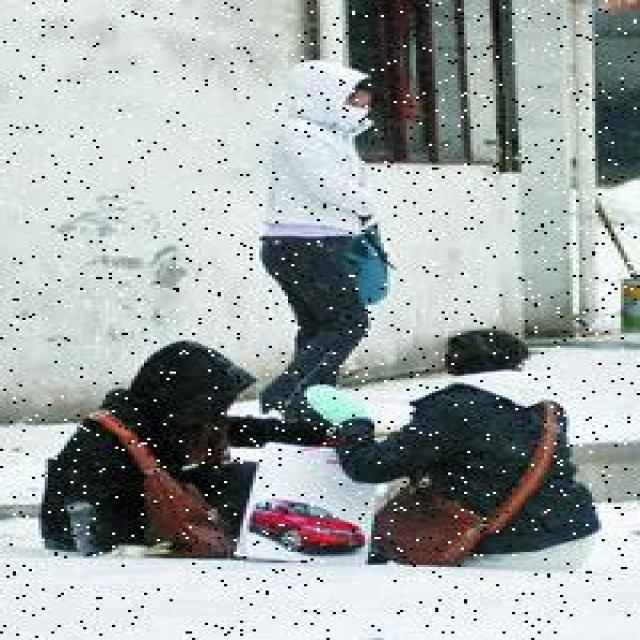fall: (29, 331, 272, 565)
